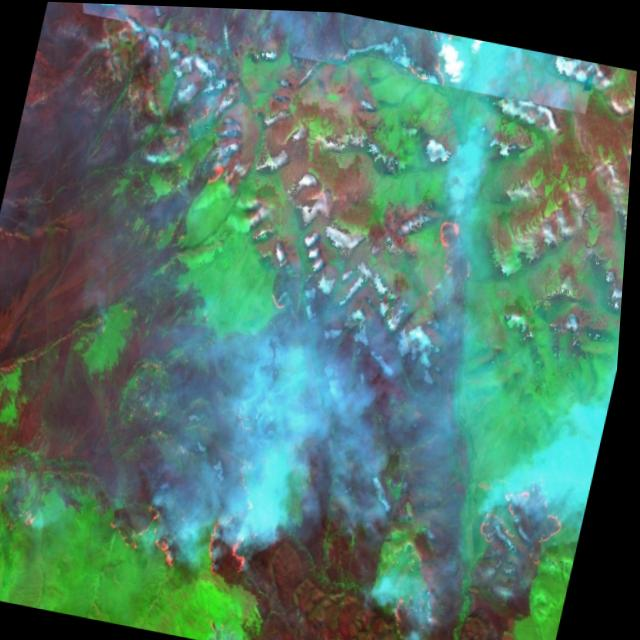fire: (470, 461, 589, 579), (97, 480, 210, 574), (202, 470, 277, 597), (428, 198, 481, 291), (388, 576, 450, 640), (202, 151, 237, 196), (10, 496, 48, 537)
